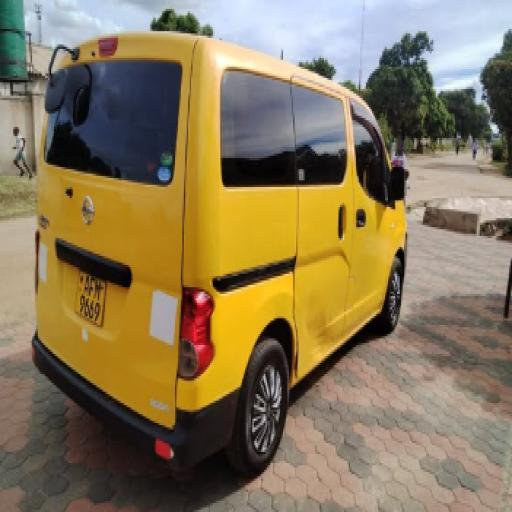number-plates: (78, 266, 105, 324)
